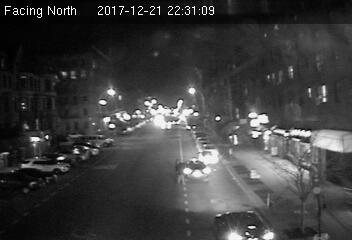car: (180, 157, 210, 181), (199, 150, 221, 166)
